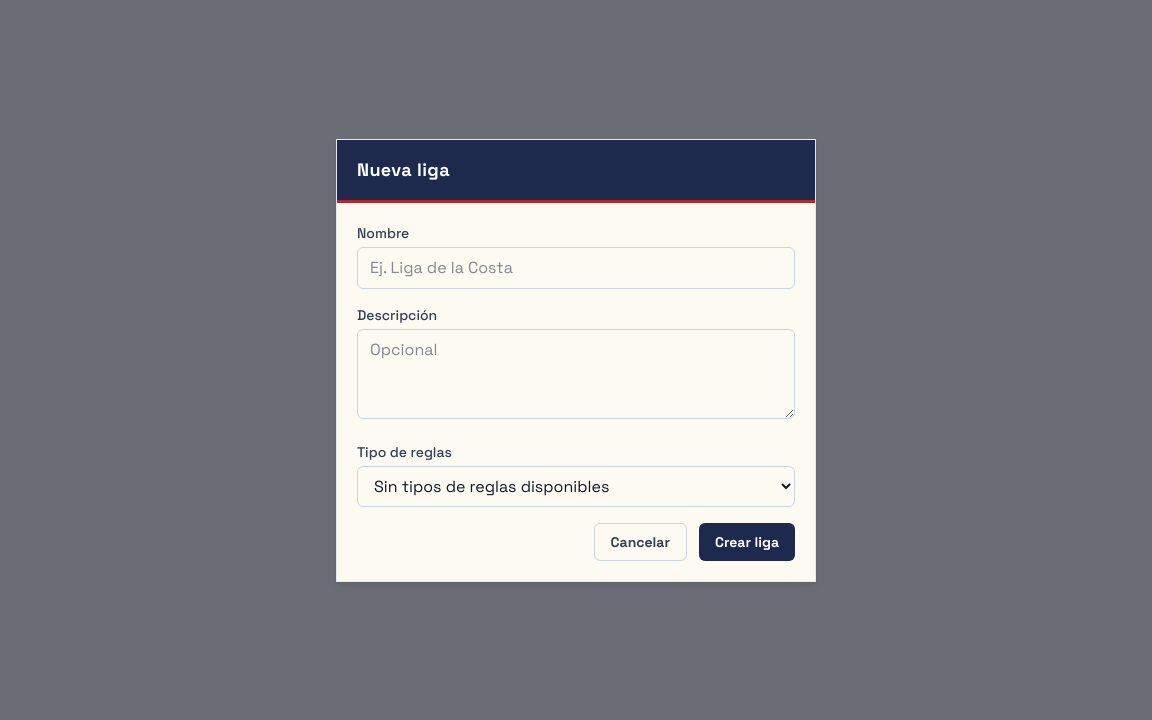
Test: CreateLeagueModal › surfaces the duplicate-name 409 and stays open
This screenshot has width=1152, height=720.
Check: the dropdown labelled "Tipo de reglas" is shown, box [357,466,795,506]
Type "Taken League" into the field labelled "Nombre" at (576, 268), box [357,246,795,288]
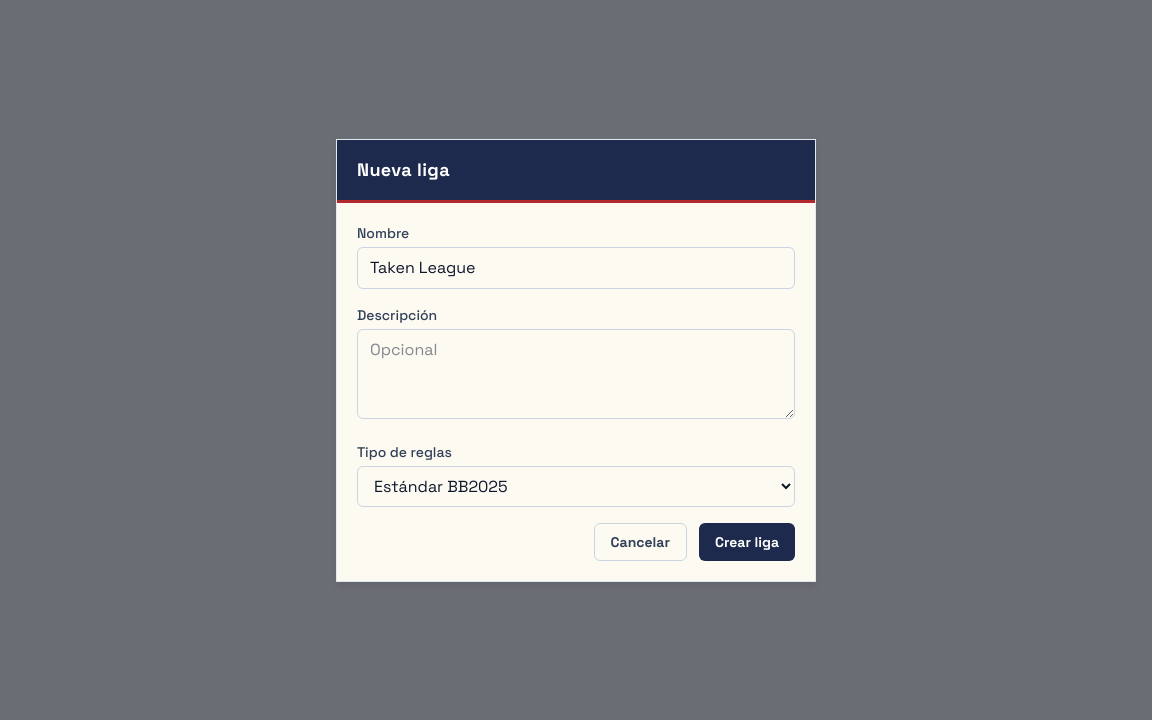
Click the button "Crear liga" at (747, 542), box [699,522,795,560]
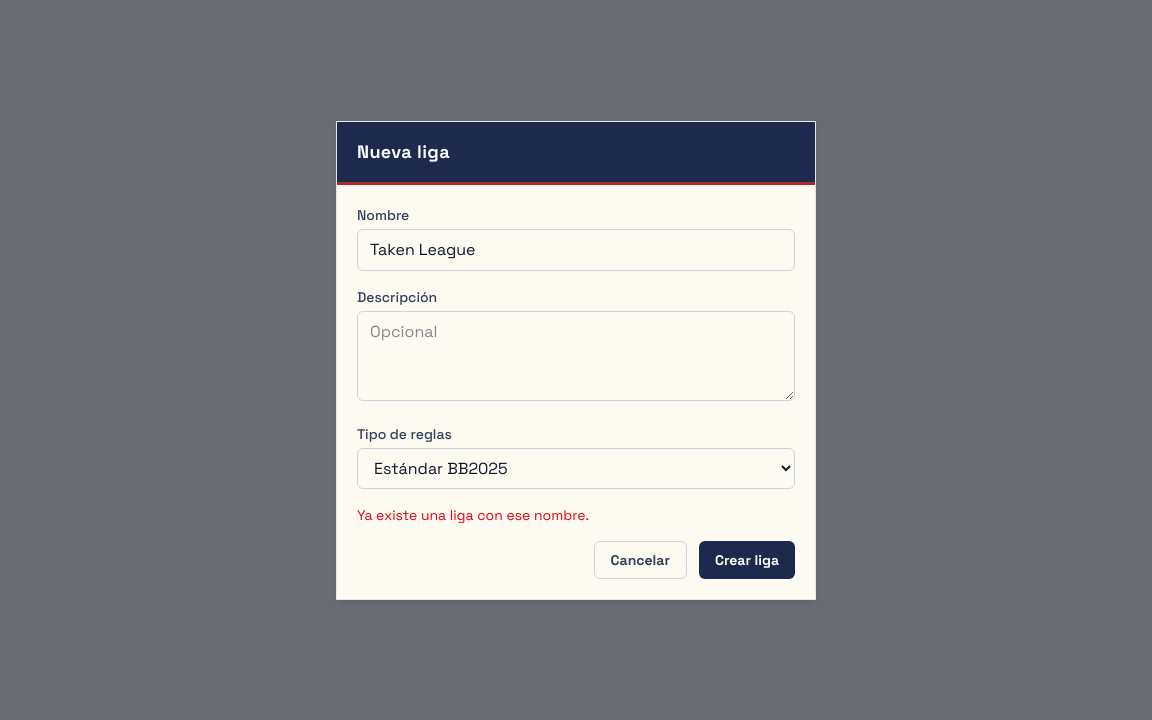
Check: the dialog "Nueva liga" is shown, box [336,120,816,600]
Check: the message reads "Ya existe una liga con ese nombre.", box [357,506,589,524]
